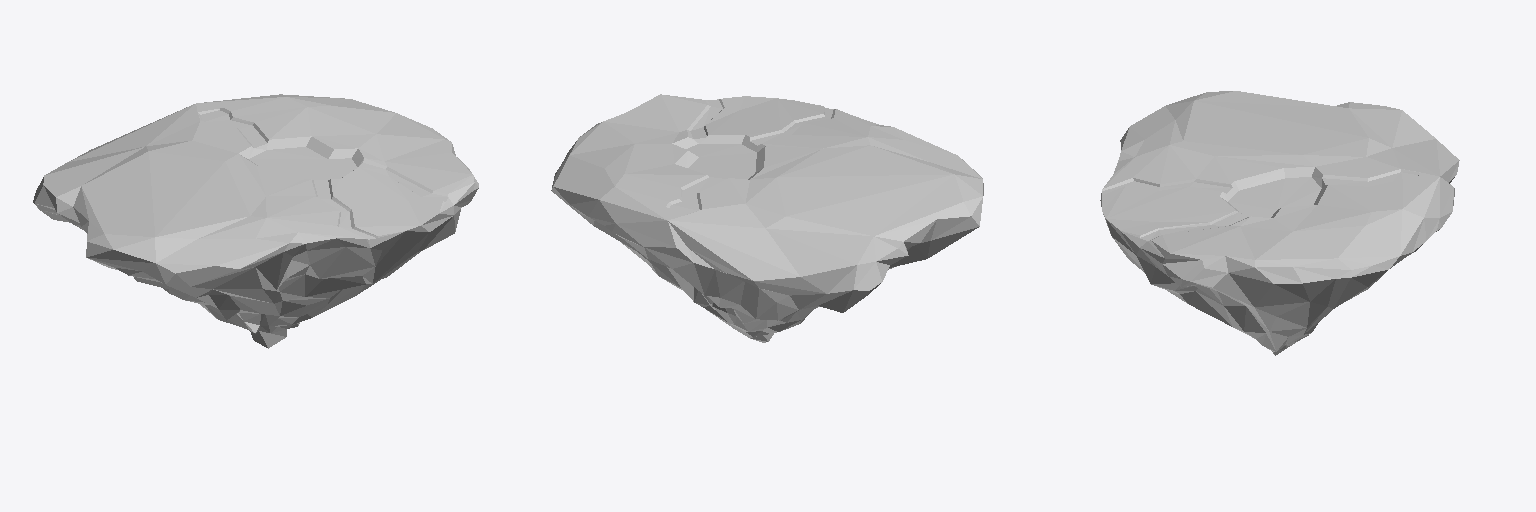
Rendered from IslandVillage.obj.
3 renders of one model, left to right at view 1: azimuth 30°, elevation 25°; view 2: azimuth 150°, elevation 25°; view 3: azimuth 270°, elevation 25°, orthographic.
Parts seen in each view (by area): view 1: Village_Island_Icosphere.020; view 2: Village_Island_Icosphere.020; view 3: Village_Island_Icosphere.020.
Part boxes in pixels (x1,y1,x2,y2): Village_Island_Icosphere.020: (33,94,478,348); Village_Island_Icosphere.020: (551,94,983,342); Village_Island_Icosphere.020: (1100,91,1459,355).
Bounding box in the file's own units: 112 × 51.47 × 91.21.